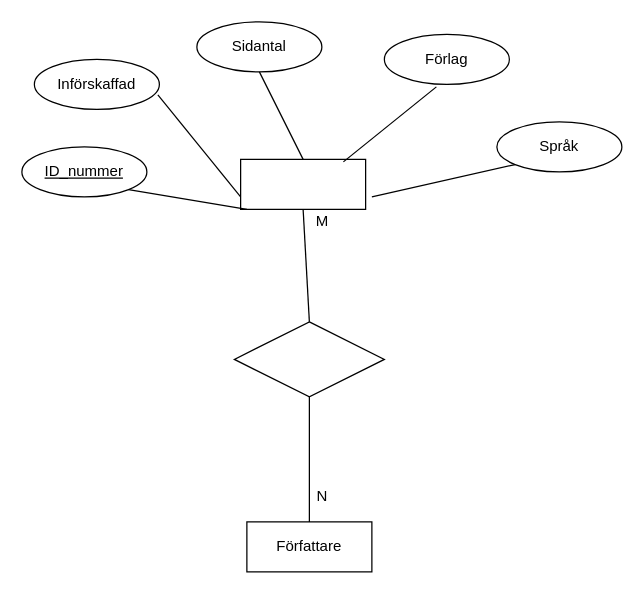
This 644x594 diagram has some shape labels left out. The shapes that lost their labels are listed below. From the top down, each one's centre as x and y in pixels, then its label:
At (x=302, y=183): "Bok".
At (x=308, y=359): "Skriven".
